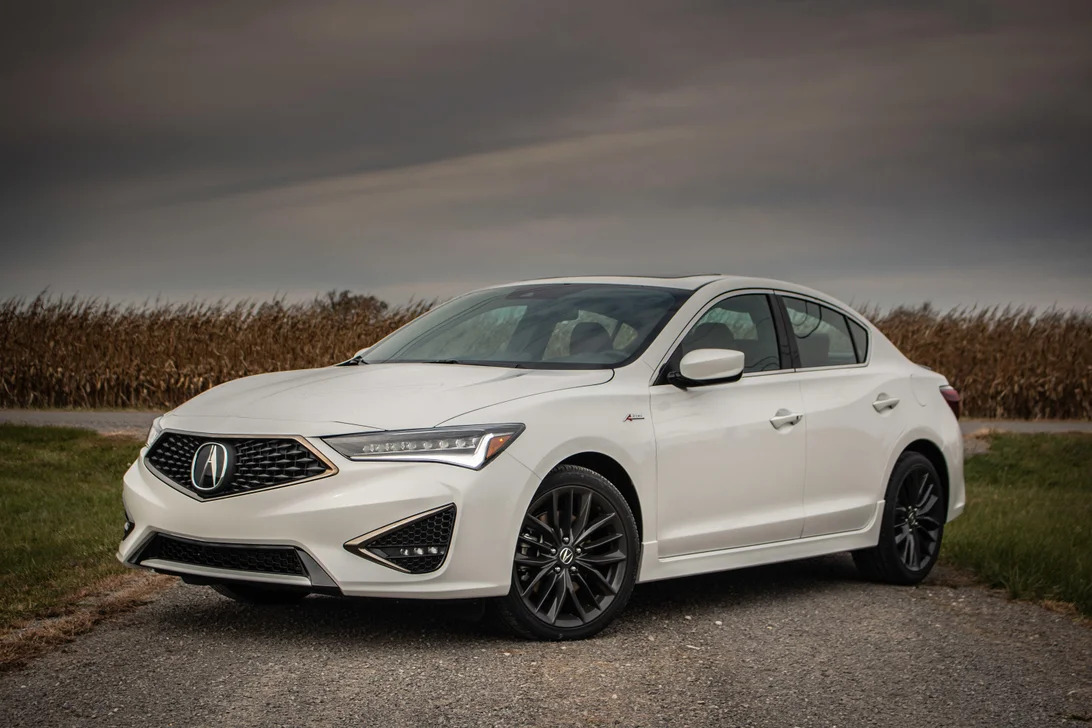Fog Lamp & Scope: (348, 512, 457, 573)
Front: (117, 372, 611, 598)
Front Bumper: (114, 509, 520, 587)
Grill: (146, 440, 331, 493)
Headlight: (332, 424, 530, 468)
